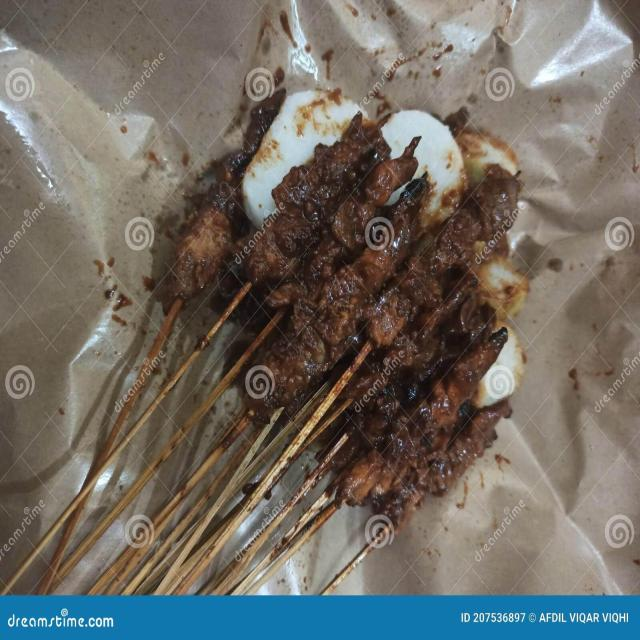Sate: (71, 107, 497, 580)
